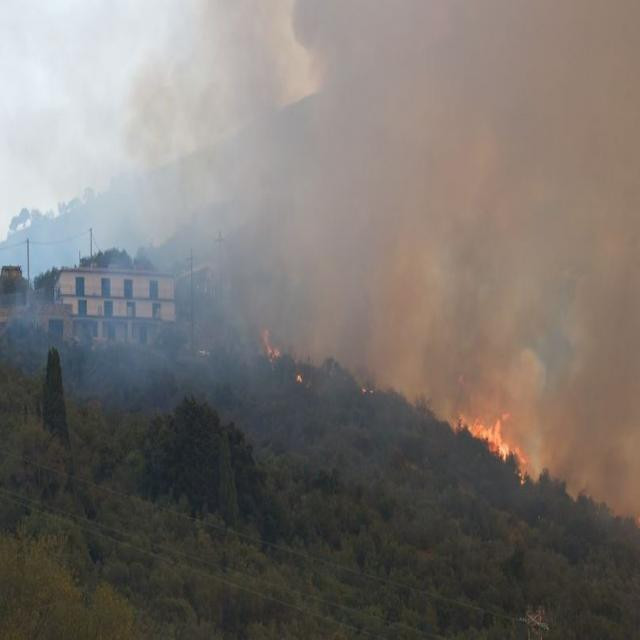Fire: (447, 384, 530, 482), (260, 330, 280, 362)
